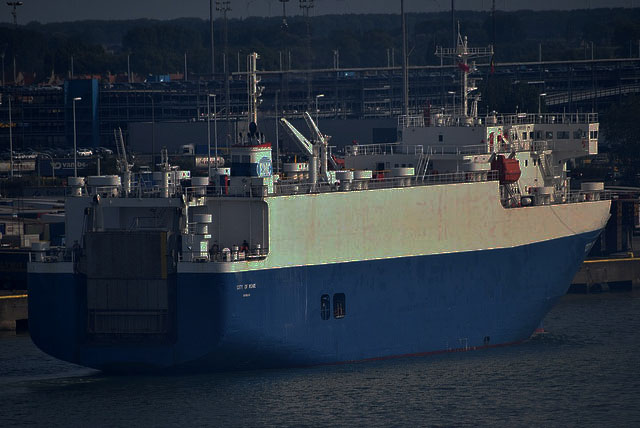PCC: (29, 75, 614, 368)
